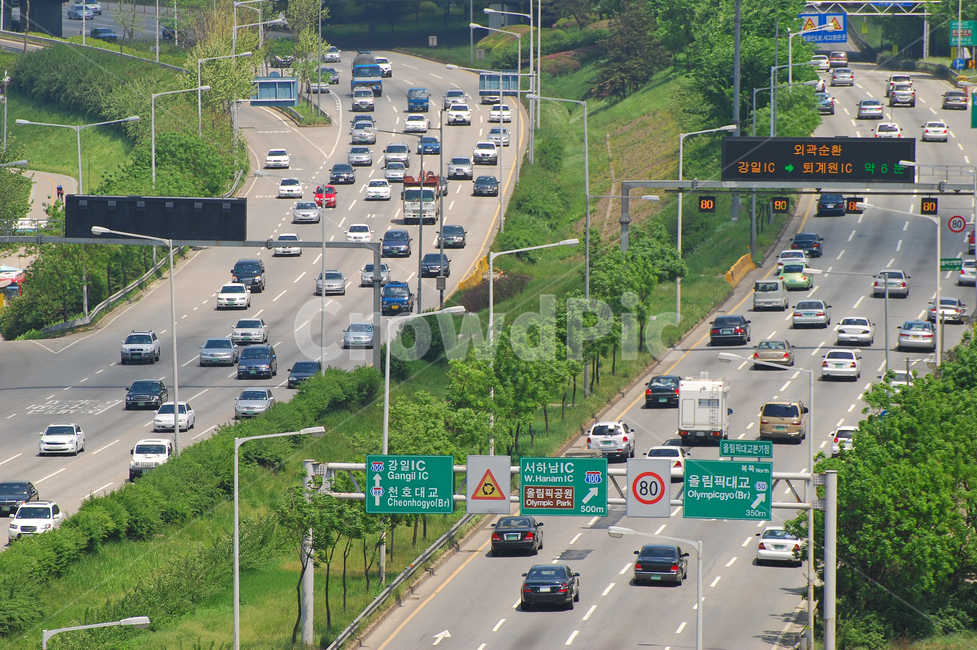Car: (677, 381, 731, 443), (519, 565, 579, 605), (759, 403, 807, 443), (10, 503, 60, 541), (636, 546, 687, 582), (401, 179, 442, 223), (494, 516, 542, 553), (759, 529, 808, 565), (132, 438, 173, 475), (38, 426, 89, 455), (118, 330, 163, 362), (589, 422, 633, 452), (126, 380, 170, 409), (154, 400, 196, 430), (351, 56, 385, 93), (1, 483, 40, 514), (235, 348, 277, 376), (755, 340, 795, 369), (379, 283, 414, 315), (228, 260, 265, 290), (838, 314, 874, 344), (752, 283, 789, 312), (645, 448, 684, 475), (823, 350, 862, 377), (710, 317, 752, 342), (236, 390, 275, 416), (928, 297, 965, 324), (234, 319, 269, 347), (792, 302, 831, 327), (202, 335, 238, 362), (899, 322, 934, 349), (647, 376, 683, 402), (418, 253, 454, 278), (341, 324, 380, 346), (381, 231, 412, 258), (875, 269, 908, 294), (288, 364, 323, 387), (792, 231, 824, 256), (214, 285, 250, 307), (782, 265, 814, 288), (315, 274, 347, 296), (348, 85, 375, 111), (816, 194, 847, 216), (362, 180, 394, 201), (874, 122, 903, 144), (921, 121, 951, 142), (438, 225, 465, 248), (293, 202, 320, 225), (383, 144, 412, 165), (346, 223, 373, 245), (359, 265, 388, 285), (273, 177, 302, 197), (889, 84, 914, 107), (777, 248, 807, 267), (472, 142, 496, 165), (311, 186, 340, 205), (856, 101, 884, 120), (471, 177, 499, 196), (349, 123, 377, 142), (941, 92, 968, 111), (830, 67, 858, 85), (405, 113, 429, 134), (275, 234, 301, 253), (332, 162, 353, 185), (448, 106, 473, 125), (349, 145, 374, 164), (378, 162, 407, 178), (446, 159, 473, 176), (266, 151, 291, 169), (417, 135, 442, 153), (407, 90, 428, 111), (371, 53, 392, 74), (490, 103, 512, 123), (487, 127, 508, 147), (441, 91, 466, 106)
